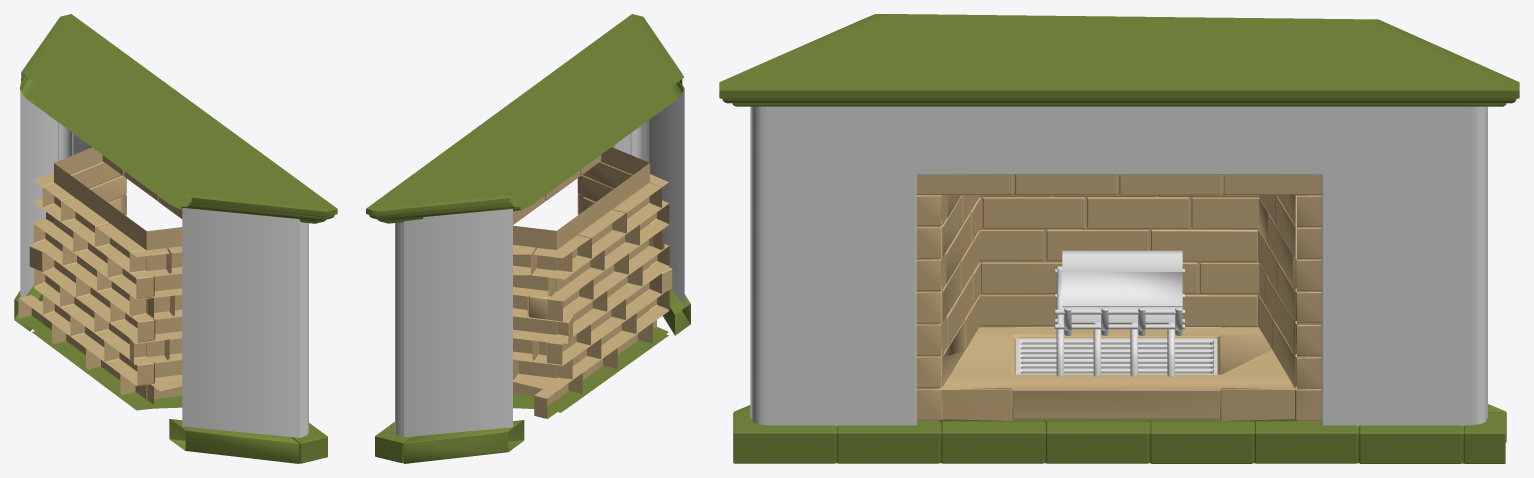
File: camino_fix.fbx
The picture shows the model from 3 angles, left to right: view 1: azimuth 30°, elevation 25°; view 2: azimuth 150°, elevation 25°; view 3: azimuth 270°, elevation 25°; orthographic projection. The views are drawn at different scales.
Visible parts, largest first — view 1: Camino.004; view 2: Camino.004; view 3: Camino.004.
Part boxes in pixels (left/top/right/bottom): Camino.004: left=14, top=14, right=337, bottom=463; Camino.004: left=366, top=14, right=690, bottom=463; Camino.004: left=719, top=14, right=1519, bottom=463.
Bounding box in the file's own units: 42.29 × 82.96 × 160.
